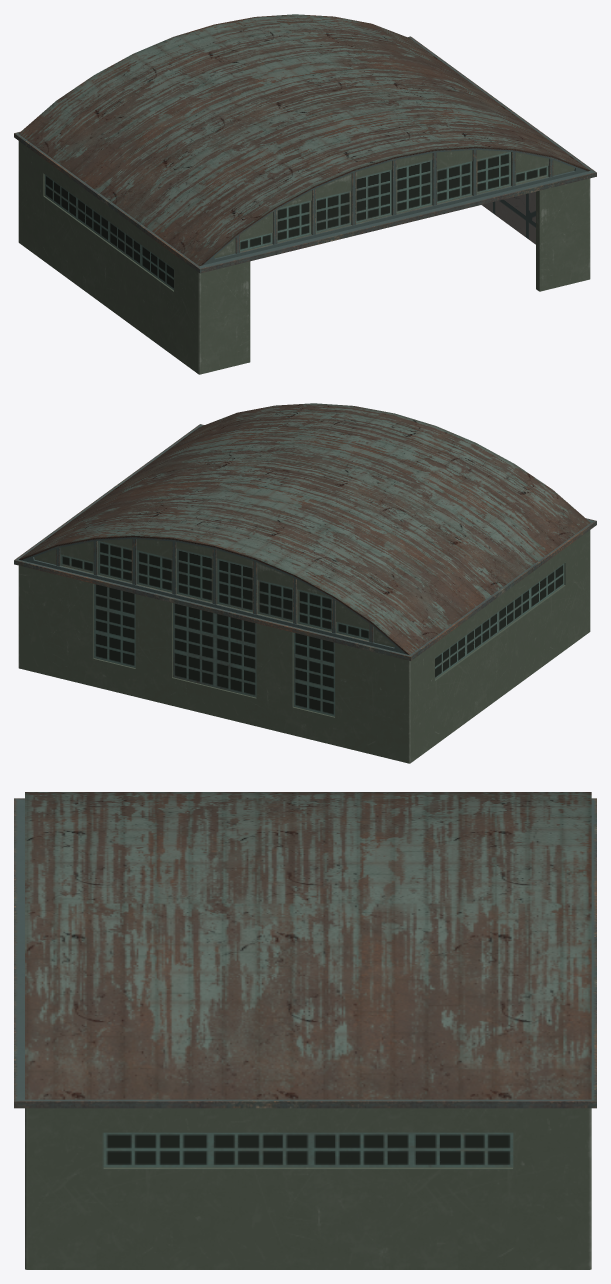
Rendered from SmallHangar.fbx.
3 views of the same model, one above another, from view 1: azimuth 30°, elevation 25°; view 2: azimuth 150°, elevation 25°; view 3: azimuth 270°, elevation 25° (orthographic). The views are drawn at different scales.
Visible parts, largest first — view 1: model_1.001; view 2: model_1.001; view 3: model_1.001.
Boxes of the visible parts, box(x1,y1,x2,y2) form: model_1.001: box(14, 14, 596, 374); model_1.001: box(14, 403, 596, 763); model_1.001: box(14, 792, 596, 1269).
Size of the model in its own units: 2532 by 1037 by 2057.
